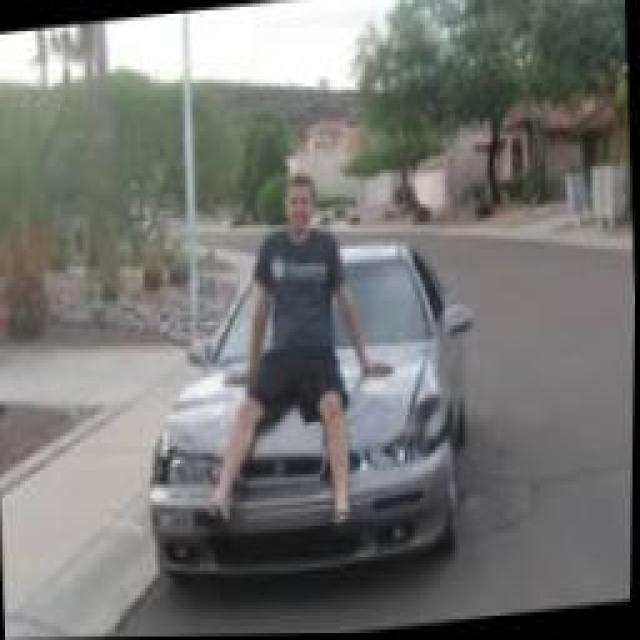Bonnet: (157, 381, 241, 451)
Bumper: (360, 367, 461, 479)
Light: (355, 429, 458, 483)
